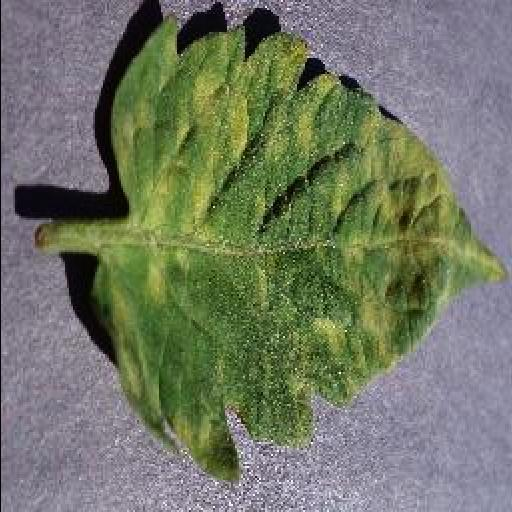disease_tomato: (90, 11, 506, 484)
